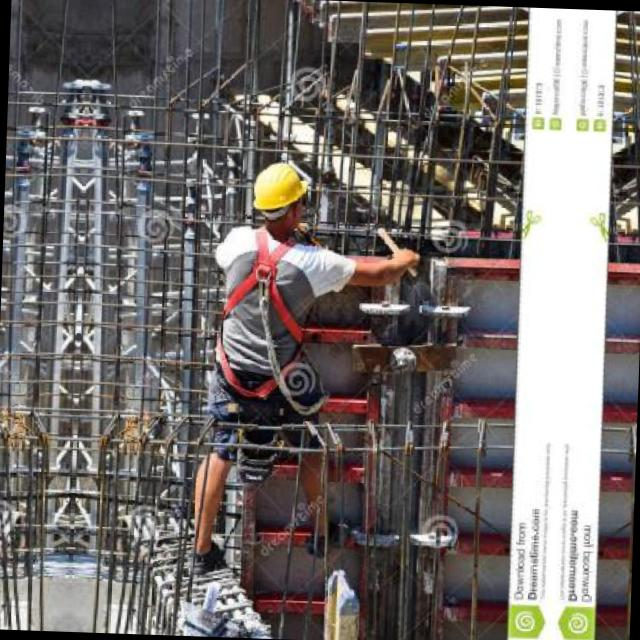helmet: (244, 153, 316, 238)
